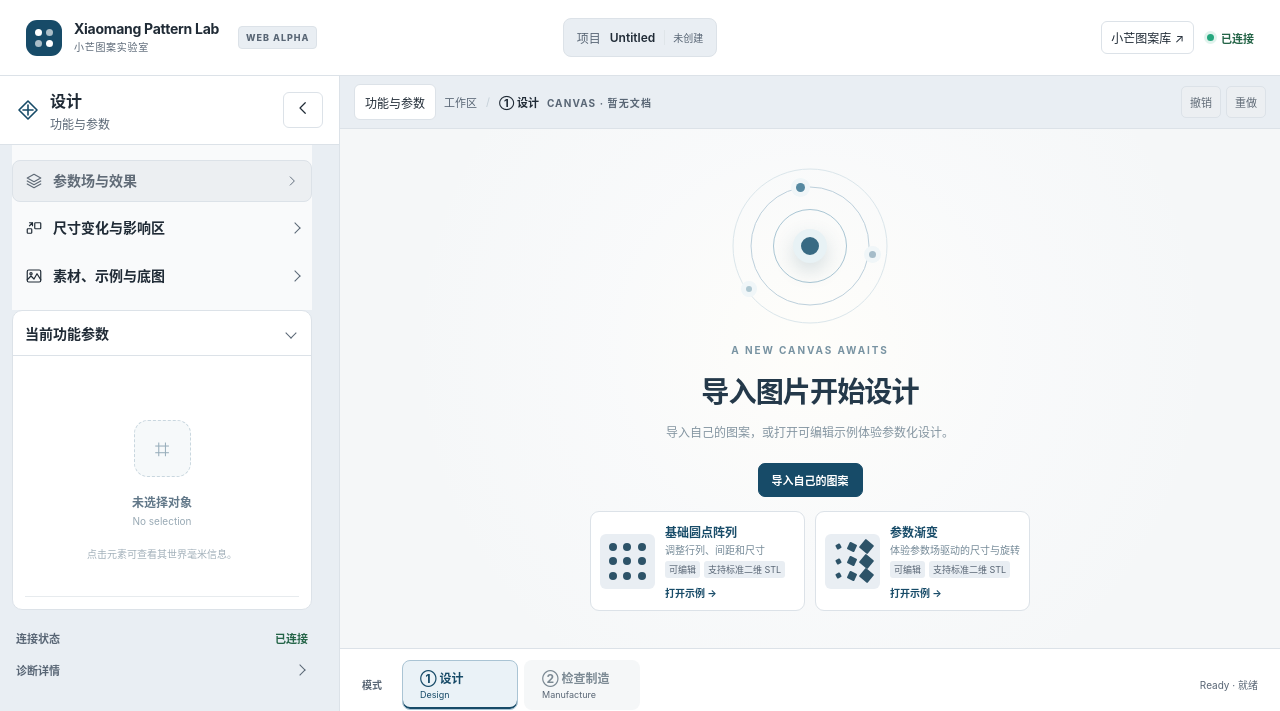
Scenario: P2-D product hierarchy › offers both examples directly and keeps diagnostics collapsed behind plain-language status
(page scrolled)
Expected: the text "已连接" is shown, top-left (1207, 30), bottom-right (1254, 46)
Expected: the button with aria-label "打开示例：基础圆点阵列" is enabled, top-left (590, 511), bottom-right (805, 611)
Click the heading "诊断详情" at {"x": 38, "y": 671}, box top-left (16, 664), bottom-right (60, 678)
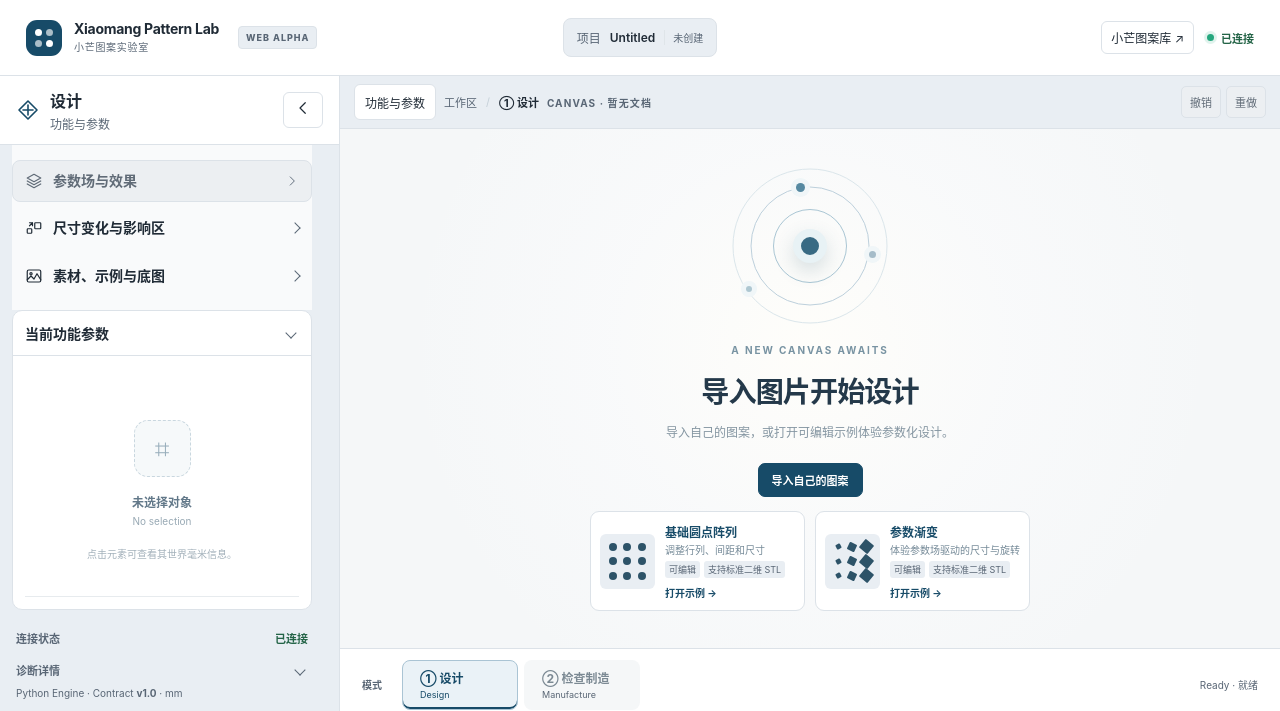
Now the text "v1.0" is shown, box top-left (136, 687), bottom-right (156, 699)
